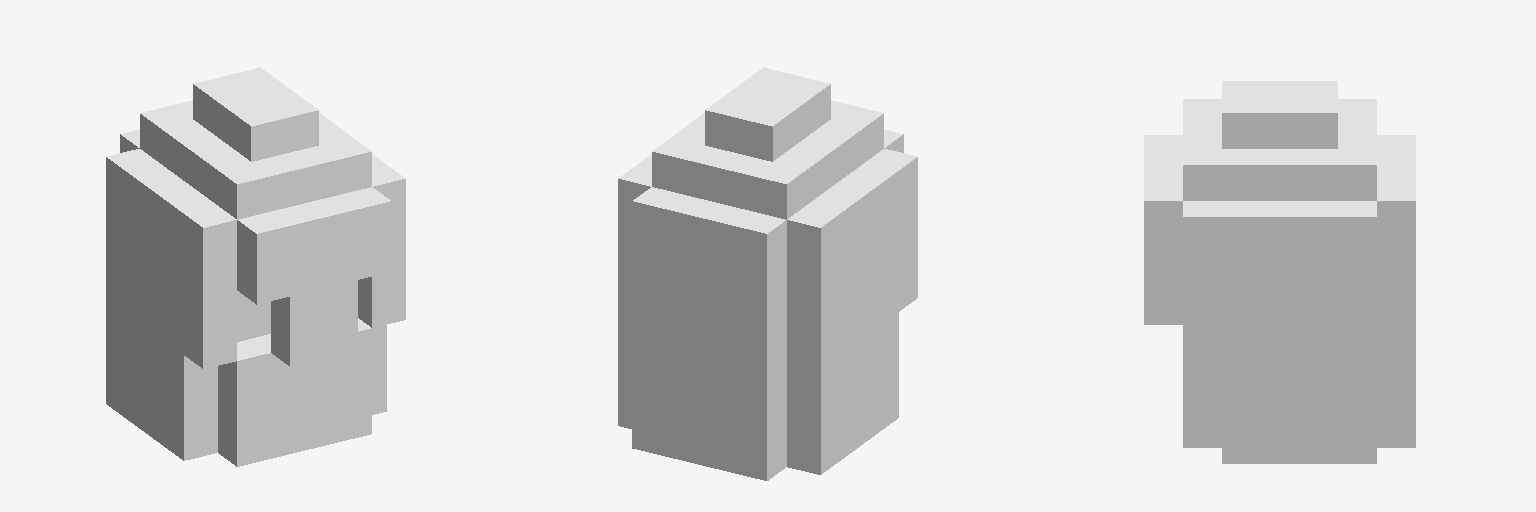
The model's file is char-152-helm_hvy_1a_sh.obj.
3 renders of one model, left to right at view 1: azimuth 30°, elevation 25°; view 2: azimuth 150°, elevation 25°; view 3: azimuth 270°, elevation 25°, orthographic.
Visible parts, largest first — view 1: helm_hvy_1a_sh; view 2: helm_hvy_1a_sh; view 3: helm_hvy_1a_sh.
Part boxes in pixels (x1,y1,x2,y2): helm_hvy_1a_sh: (106, 67, 405, 466); helm_hvy_1a_sh: (618, 67, 917, 480); helm_hvy_1a_sh: (1144, 81, 1415, 463).
Bounding box in the file's own units: 0.6 × 0.9 × 0.7.